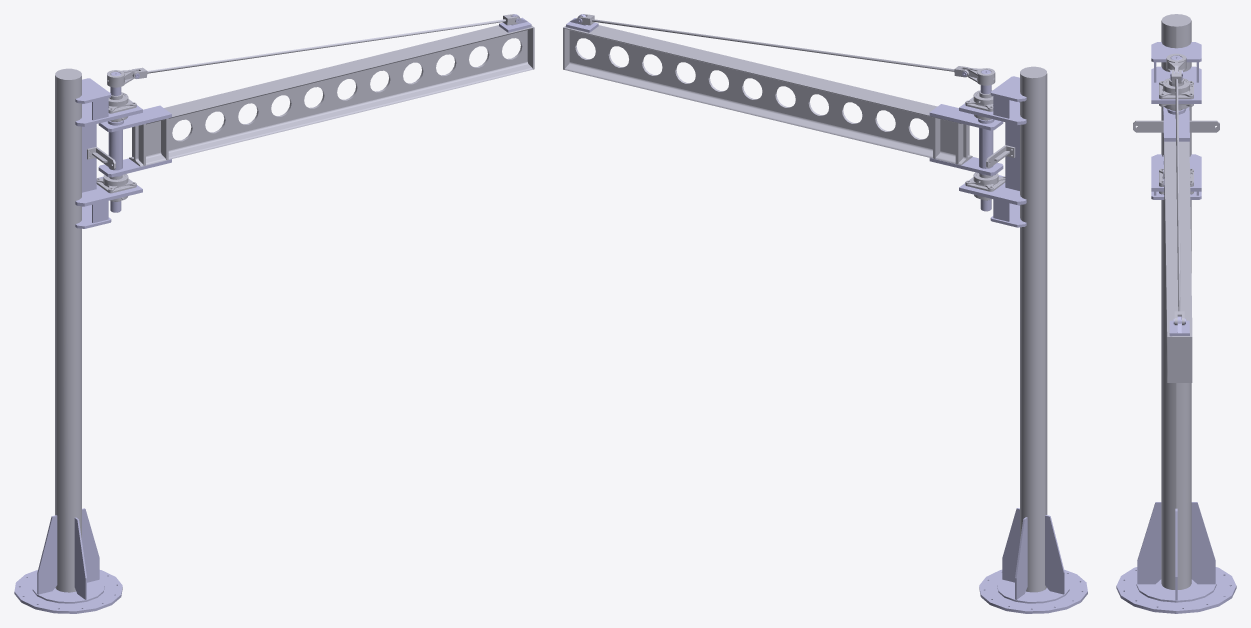
File: jib-crane.glb
3 views of the same model, side by side, from view 1: azimuth 30°, elevation 25°; view 2: azimuth 150°, elevation 25°; view 3: azimuth 270°, elevation 25° (orthographic). The views are drawn at different scales.
Visible parts, largest first — view 1: cad-5-5-6, cad-4-4-6; view 2: cad-5-5-6, cad-4-4-6; view 3: cad-5-5-6, cad-4-4-6.
Part boxes in pixels (<box>): cad-5-5-6: <box>55,14,534,592</box>; cad-4-4-6: <box>14,14,531,613</box>; cad-5-5-6: <box>563,14,1047,592</box>; cad-4-4-6: <box>566,14,1087,613</box>; cad-5-5-6: <box>1133,14,1219,589</box>; cad-4-4-6: <box>1116,42,1236,613</box>.
Bounding box in the file's own units: 3230 × 3134 × 600.
